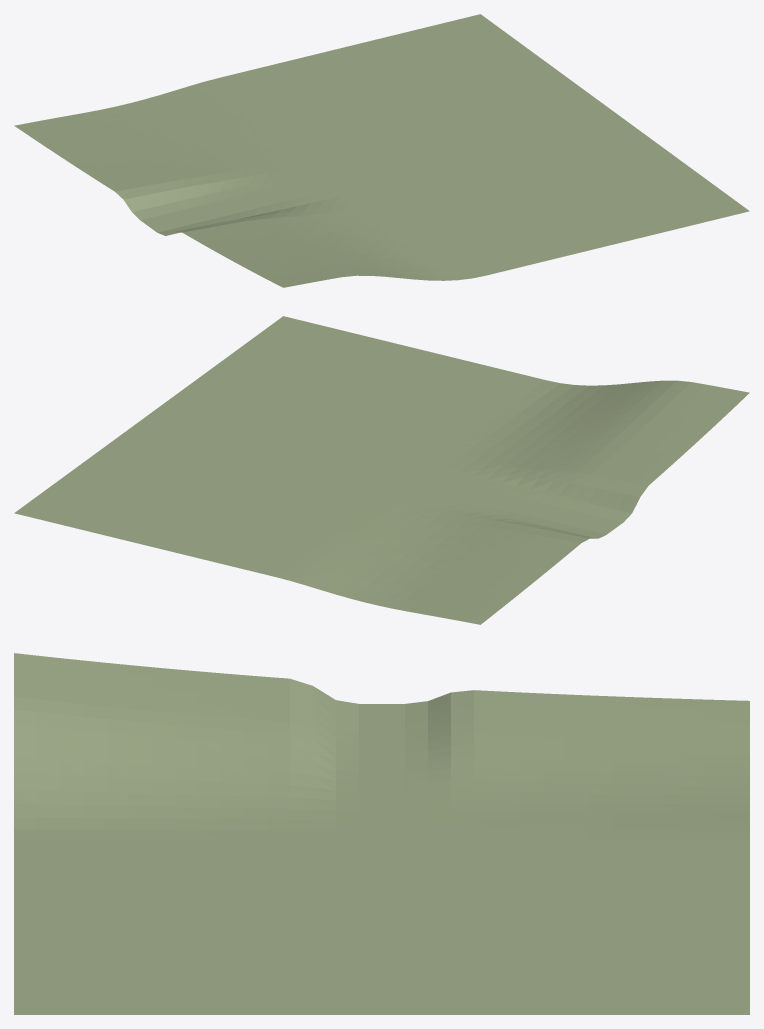
File: valley-7-12.glb
3 renders of one model, top to bottom at view 1: azimuth 30°, elevation 25°; view 2: azimuth 150°, elevation 25°; view 3: azimuth 270°, elevation 25°, orthographic. The views are drawn at different scales.
Parts seen in each view (by area): view 1: valley-7-12; view 2: valley-7-12; view 3: valley-7-12.
Boxes of the visible parts, <box> form: valley-7-12: <box>14,14,749,287</box>; valley-7-12: <box>14,316,749,624</box>; valley-7-12: <box>14,653,749,1014</box>.
Size of the model in its own units: 256 by 21.4 by 256.
